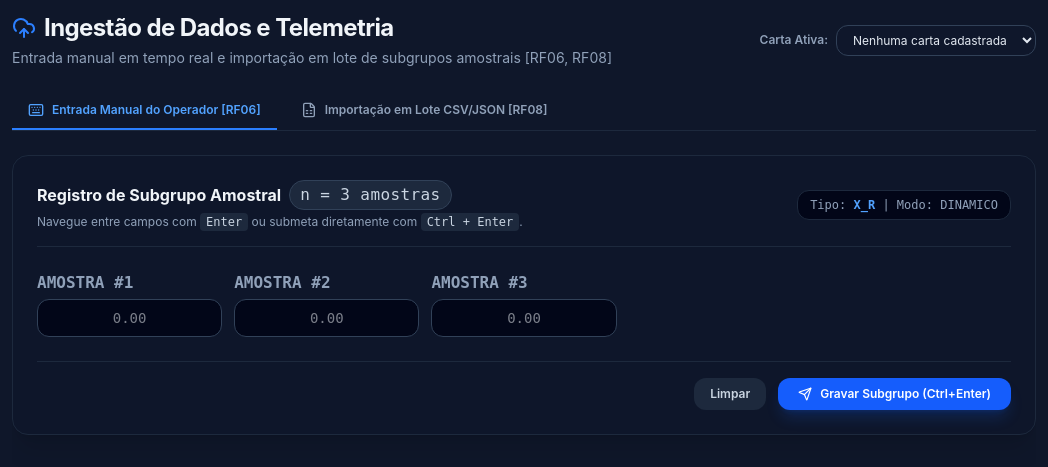
Test: IngestaoPage › deve alternar para aba de importação em lote e exibir dropzone [RF08]
Click the button "Importação em Lote CSV/JSON [RF08]" at (424, 111), box [285, 92, 564, 130]
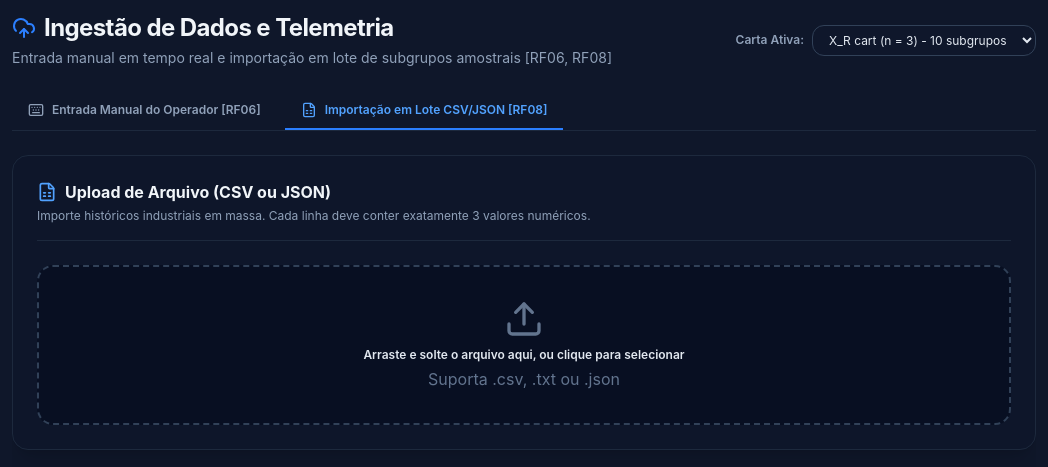
Expected: the text "Upload de Arquivo (CSV ou JSON)" is shown, [65, 180, 331, 204]
Expected: the text "Arraste e solte o arquivo aqui, ou clique para selecionar" is shown, [363, 347, 685, 362]
